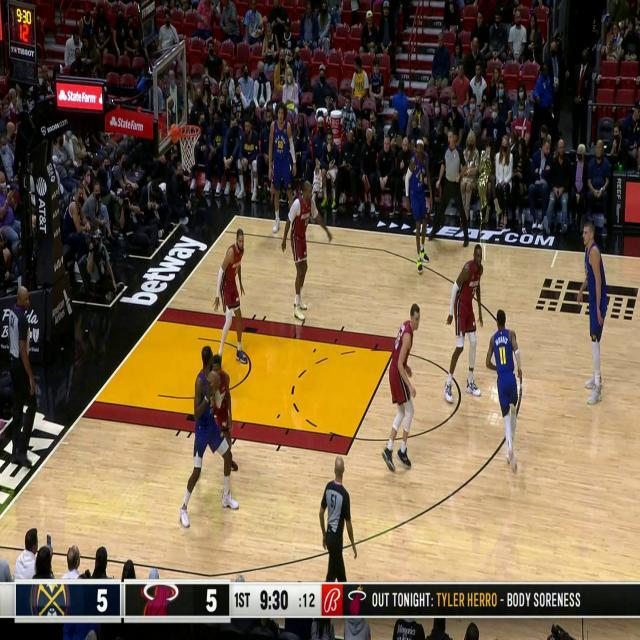rim: (208, 372, 218, 392)
